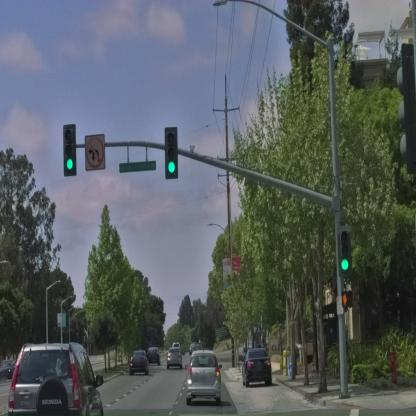car: (6, 342, 106, 416), (184, 353, 224, 406), (242, 348, 272, 386), (129, 351, 150, 376), (167, 345, 183, 370), (147, 347, 161, 365), (1, 362, 15, 379)
fire hydrant: (384, 345, 400, 381)
